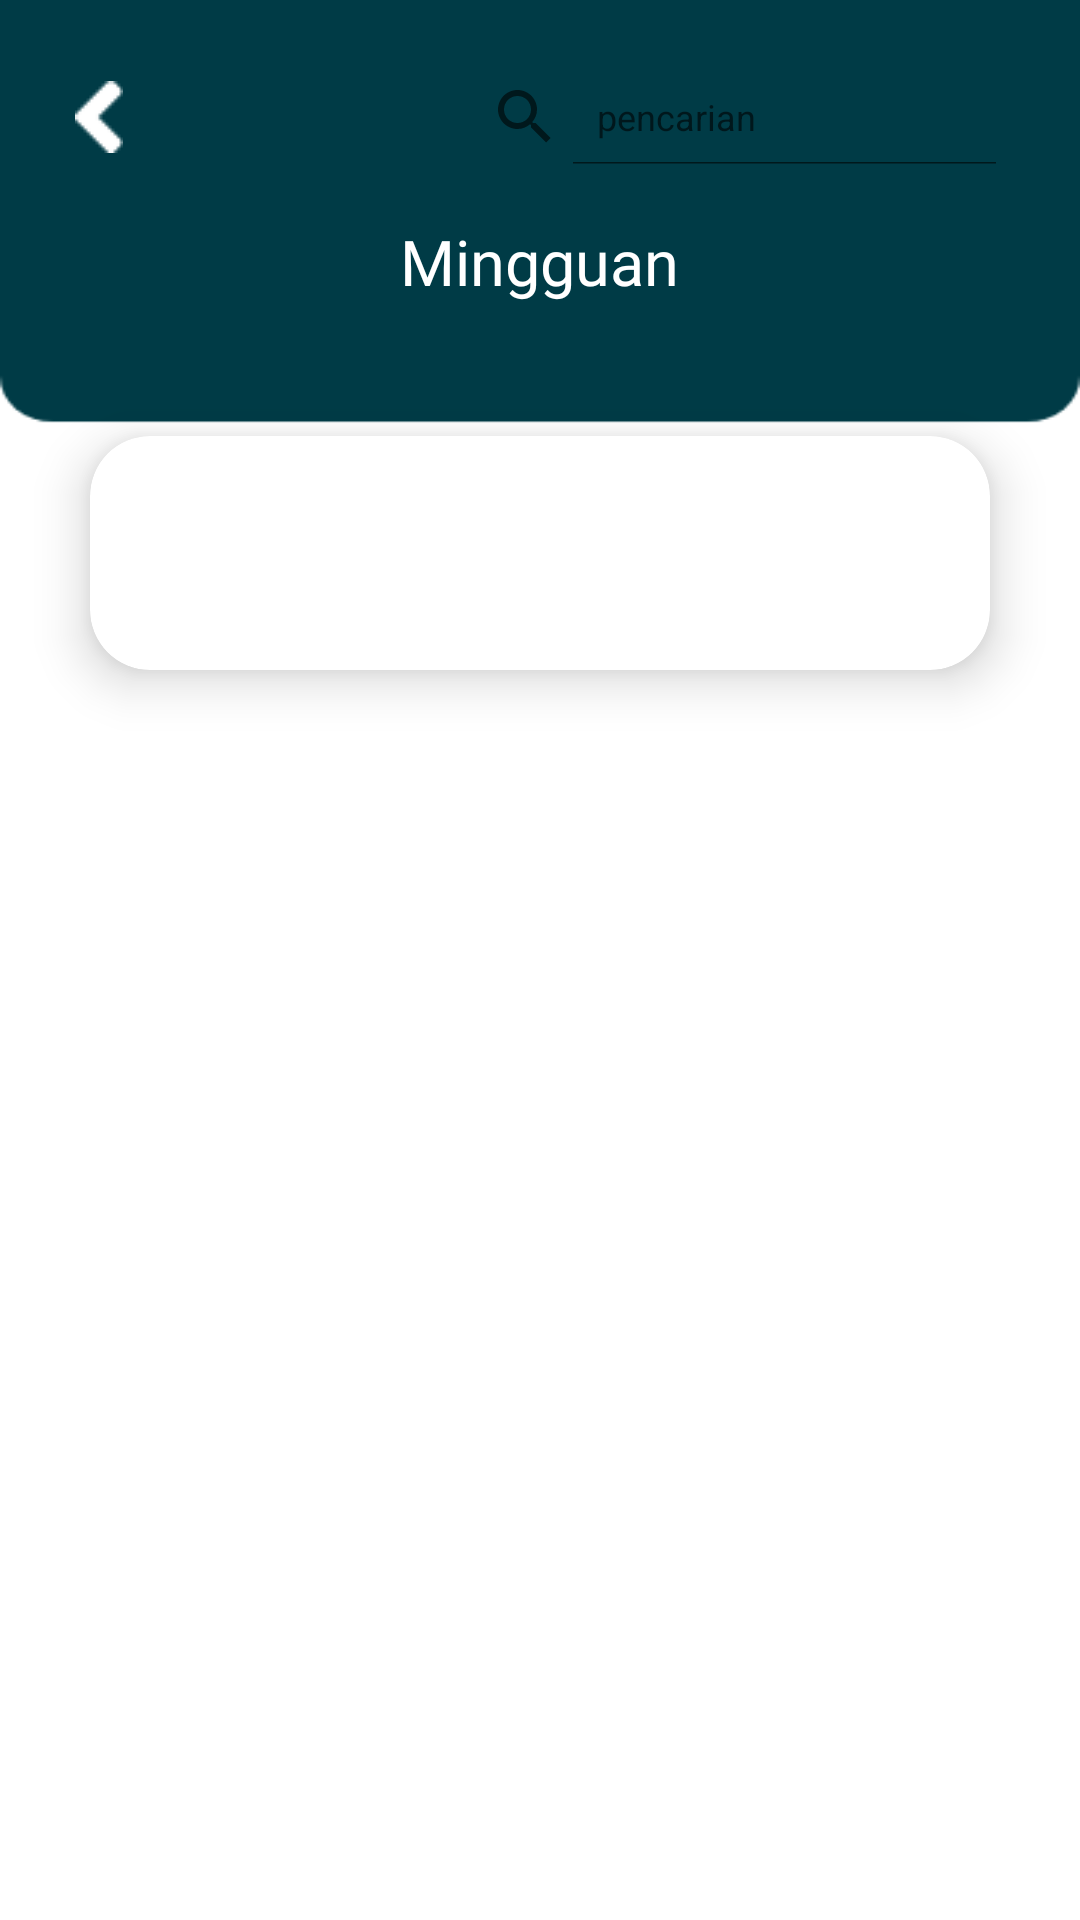

Icons on this 1080 x 1920 Android screen, each with its box as (x1, y1, x2, y2):
btnleft: (75, 81, 123, 153)
